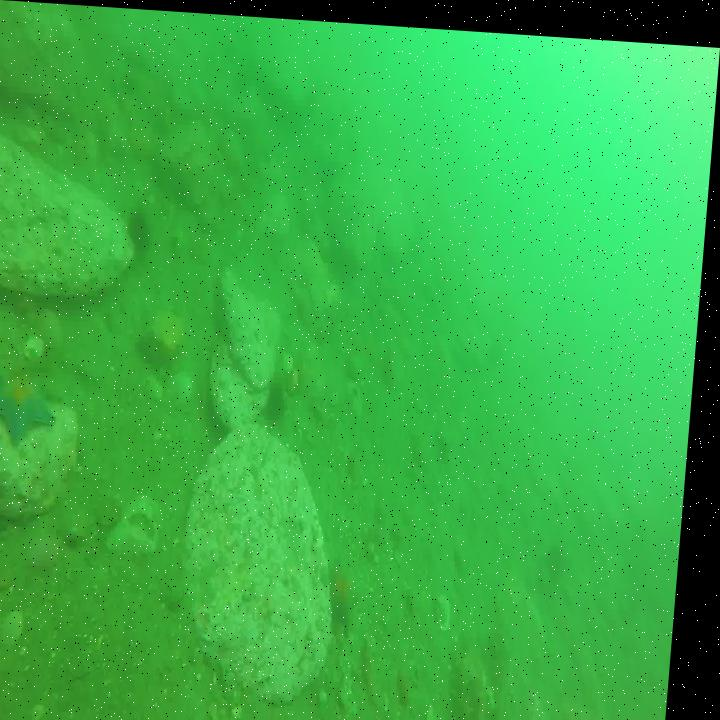echinus: (131, 205, 159, 258)
holothurian: (453, 646, 490, 720)
starfish: (0, 375, 63, 446), (326, 548, 373, 634)
